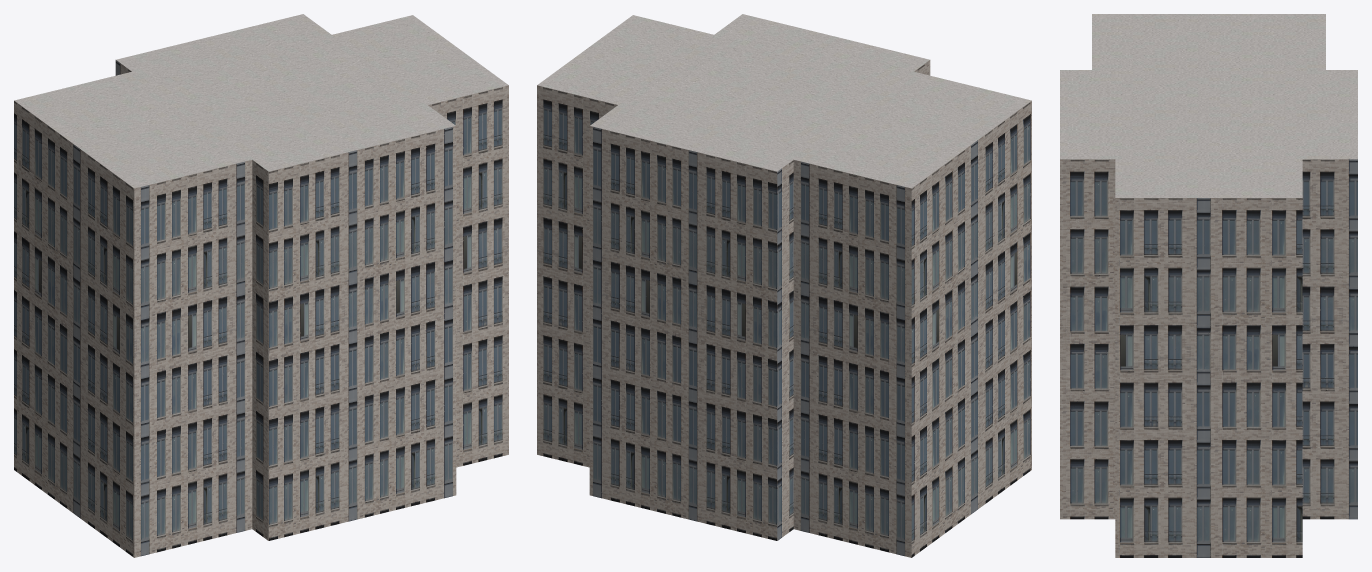
File: building_011.fbx
3 renders of one model, left to right at view 1: azimuth 30°, elevation 25°; view 2: azimuth 150°, elevation 25°; view 3: azimuth 270°, elevation 25°, orthographic. The views are drawn at different scales.
Parts seen in each view (by area): view 1: building_011; view 2: building_011; view 3: building_011.
Boxes of the visible parts, left/top/right/bottom form: building_011: left=14, top=14, right=508, bottom=557; building_011: left=537, top=14, right=1031, bottom=557; building_011: left=1060, top=14, right=1357, bottom=557.
Size of the model in its own units: 1753 by 1600 by 1200.
